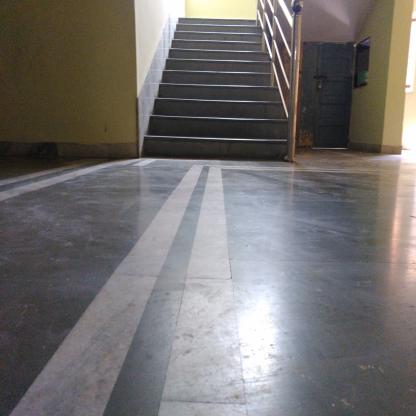stairs: (181, 16, 255, 165)
